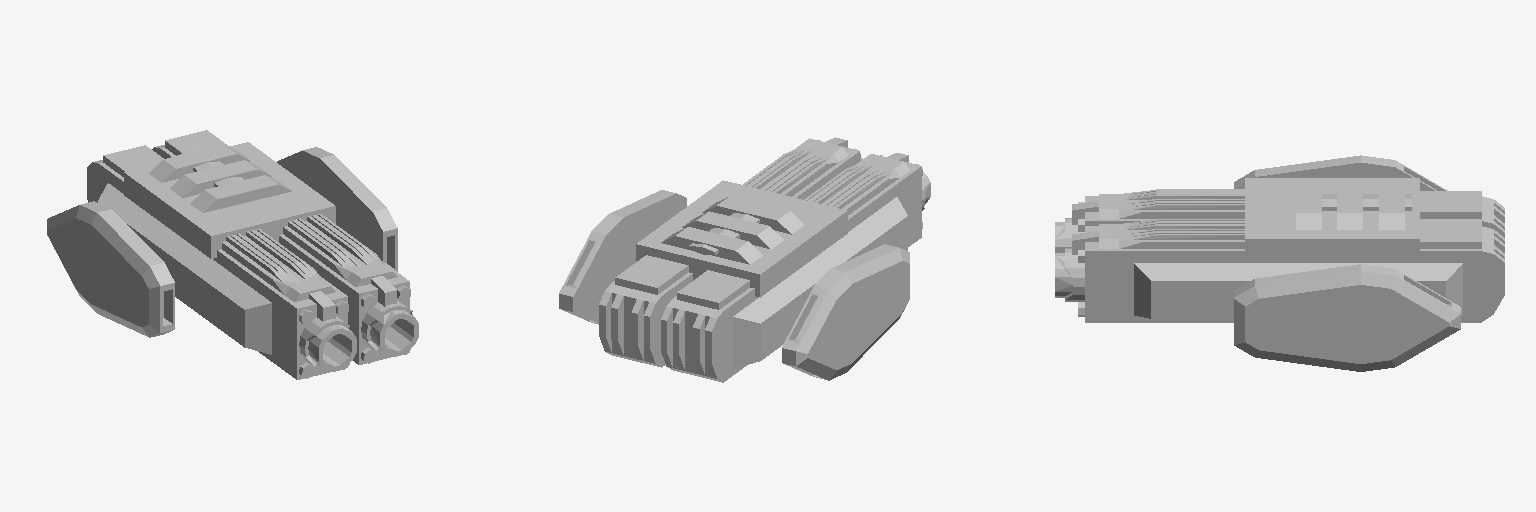
File: bigBarrel.obj
The picture shows the model from 3 angles: view 1: azimuth 30°, elevation 25°; view 2: azimuth 150°, elevation 25°; view 3: azimuth 270°, elevation 25°; orthographic projection.
Parts seen in each view (by area): view 1: bigBarrel; view 2: bigBarrel; view 3: bigBarrel.
Boxes of the visible parts, x1,y1,x2,y2 form: bigBarrel: [47, 130, 418, 379]; bigBarrel: [559, 137, 930, 382]; bigBarrel: [1055, 155, 1504, 371].
Bounding box in the file's own units: 1.08 × 0.4849 × 1.7.